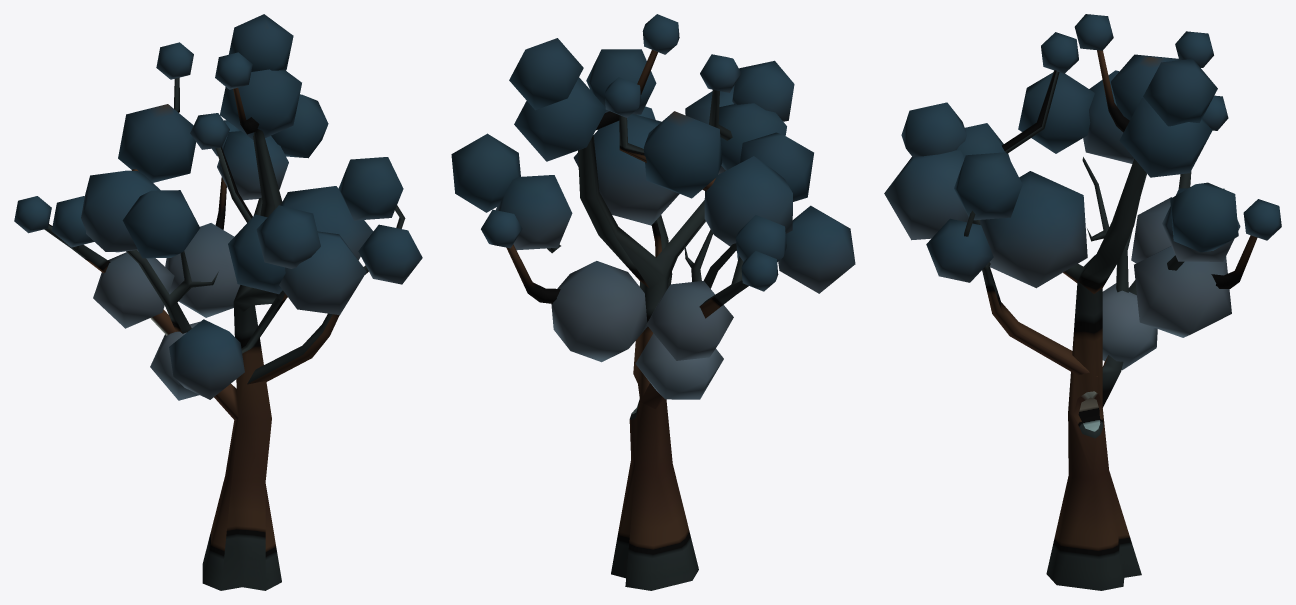
File: Tree_2F.fbx
The picture shows the model from 3 angles, left to right: view 1: azimuth 30°, elevation 25°; view 2: azimuth 150°, elevation 25°; view 3: azimuth 270°, elevation 25°; orthographic projection. The views are drawn at different scales.
Parts seen in each view (by area): view 1: Tree_2F; view 2: Tree_2F; view 3: Tree_2F.
Part boxes in pixels (x1=…): Tree_2F: x1=14, y1=14, x2=422, y2=590; Tree_2F: x1=451, y1=14, x2=855, y2=590; Tree_2F: x1=884, y1=14, x2=1281, y2=590.
Bounding box in the file's own units: 5.12 × 8.42 × 5.46.
